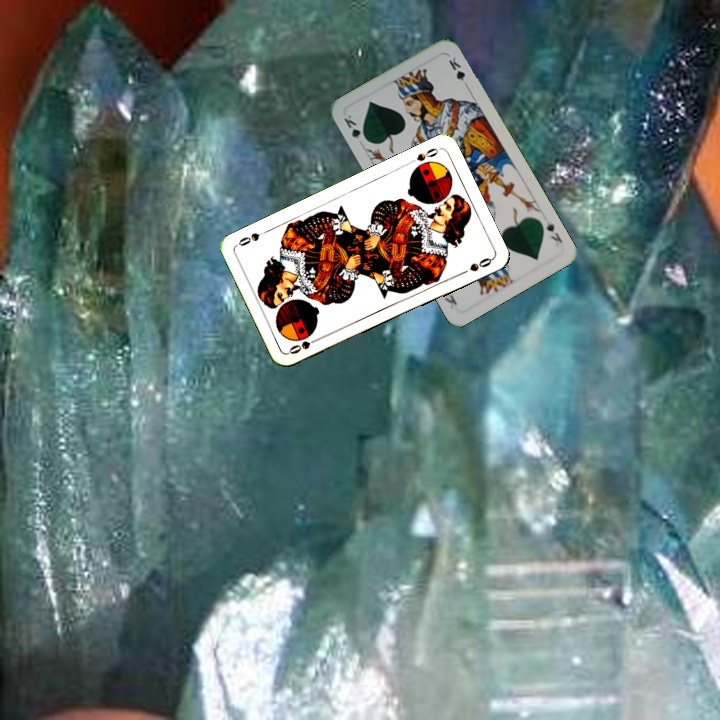GK: (340, 110, 370, 144), (542, 216, 565, 251)
SO: (285, 333, 323, 357), (404, 144, 442, 167)
